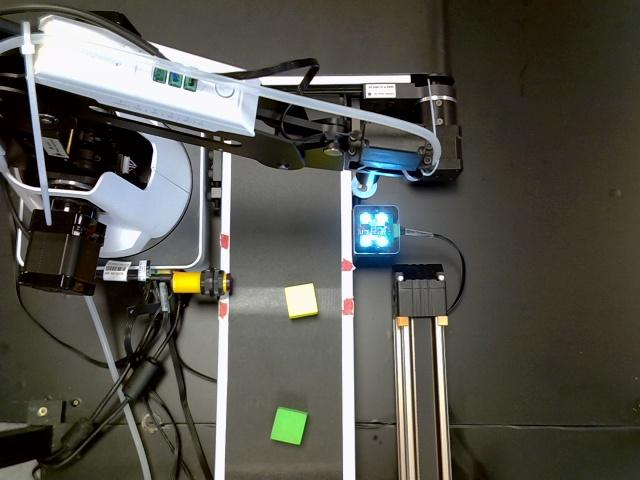cube: (267, 408, 311, 446), (284, 281, 319, 319)
